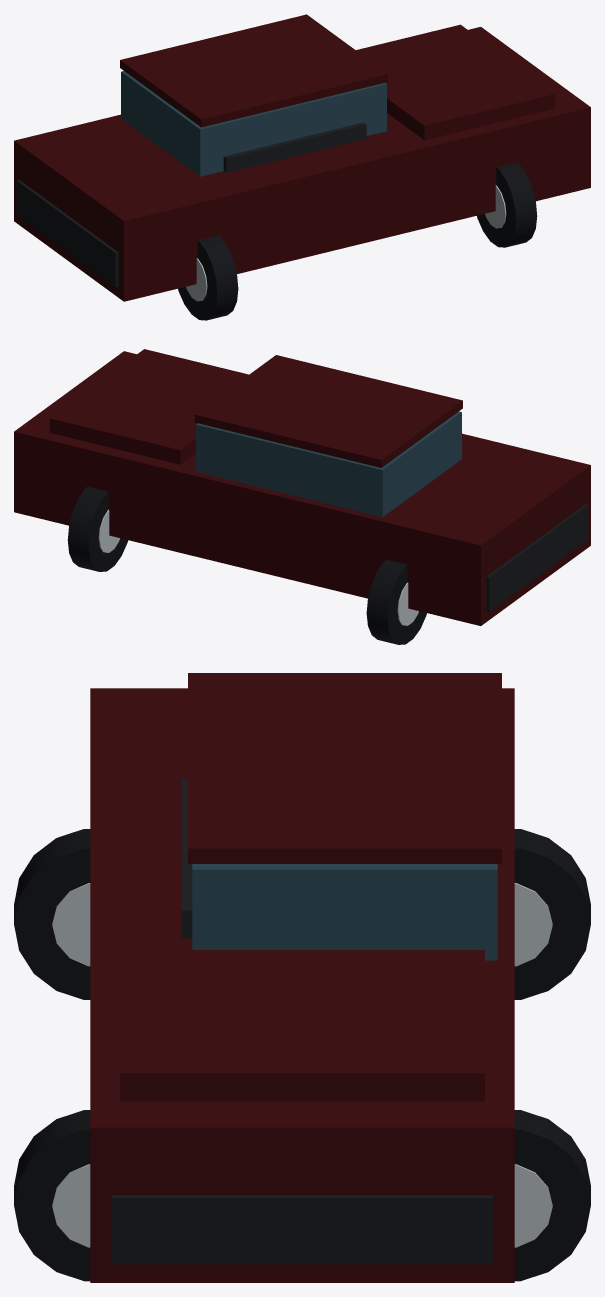
File: ford_ecosport.glb
3 views of the same model, one above another, from view 1: azimuth 30°, elevation 25°; view 2: azimuth 150°, elevation 25°; view 3: azimuth 270°, elevation 25° (orthographic). The views are drawn at different scales.
Visible parts, largest first — view 1: body, roof, hood, cabin, rear_bumper, rear_right_wheel, front_right_wheel, interior; view 2: body, roof, cabin, hood, rear_bumper, rear_left_wheel, front_left_wheel; view 3: body, roof, hood, front_bumper, cabin, front_left_wheel, front_right_wheel, rear_left_wheel, rear_right_wheel, interior.
Boxes of the visible parts, bbox=[...] form: body: bbox=[14, 27, 590, 301]; roof: bbox=[120, 14, 388, 127]; hood: bbox=[356, 24, 555, 140]; cabin: bbox=[121, 71, 386, 176]; rear_bumper: bbox=[16, 180, 118, 287]; rear_right_wheel: bbox=[178, 235, 238, 320]; front_right_wheel: bbox=[477, 162, 537, 247]; interior: bbox=[223, 122, 366, 172]; body: bbox=[14, 351, 590, 625]; roof: bbox=[194, 355, 462, 467]; cabin: bbox=[196, 411, 461, 517]; hood: bbox=[49, 349, 248, 464]; rear_bumper: bbox=[486, 504, 588, 611]; rear_left_wheel: bbox=[366, 559, 426, 644]; front_left_wheel: bbox=[67, 486, 128, 571]; body: bbox=[90, 688, 514, 1282]; roof: bbox=[188, 673, 501, 863]; hood: bbox=[120, 950, 484, 1101]; front_bumper: bbox=[111, 1195, 493, 1264]; cabin: bbox=[192, 864, 497, 960]; front_left_wheel: bbox=[514, 1110, 590, 1281]; front_right_wheel: bbox=[14, 1110, 90, 1281]; rear_left_wheel: bbox=[514, 829, 590, 999]; rear_right_wheel: bbox=[14, 829, 90, 999]; interior: bbox=[181, 778, 192, 938].
Size of the model in its own units: 4.96 by 1.74 by 2.72.
